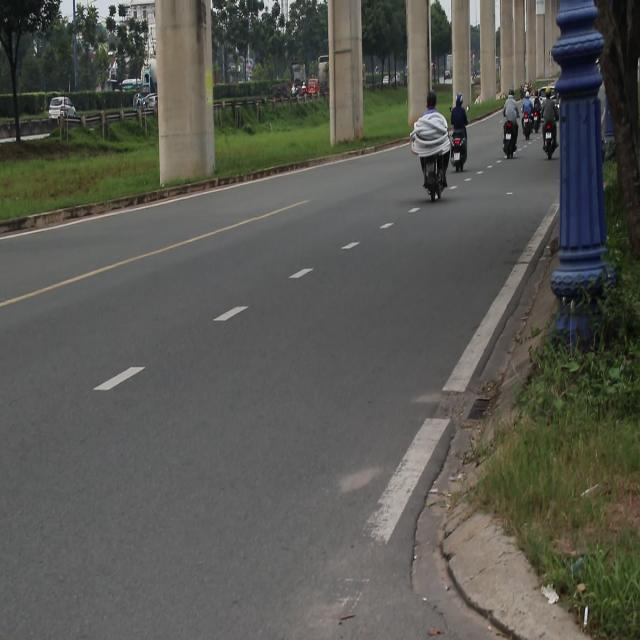car: (47, 98, 78, 121)
motorbike: (417, 144, 448, 218), (450, 130, 467, 177), (542, 126, 556, 159), (508, 121, 516, 162), (529, 106, 539, 137), (522, 106, 531, 139)
